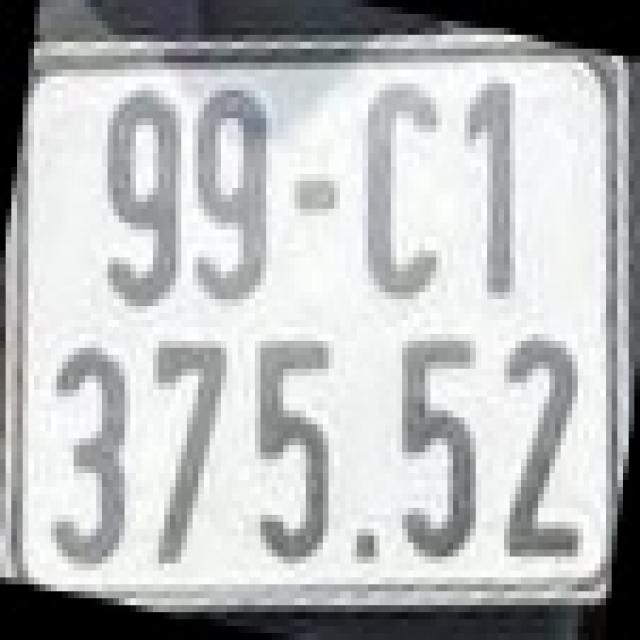1: (458, 77, 526, 299)
2: (498, 327, 589, 556)
3: (51, 348, 130, 563)
5: (396, 327, 482, 556), (255, 334, 334, 556)
7: (153, 334, 226, 563)
9: (192, 84, 272, 299), (102, 91, 181, 306)
C: (357, 77, 447, 299)
